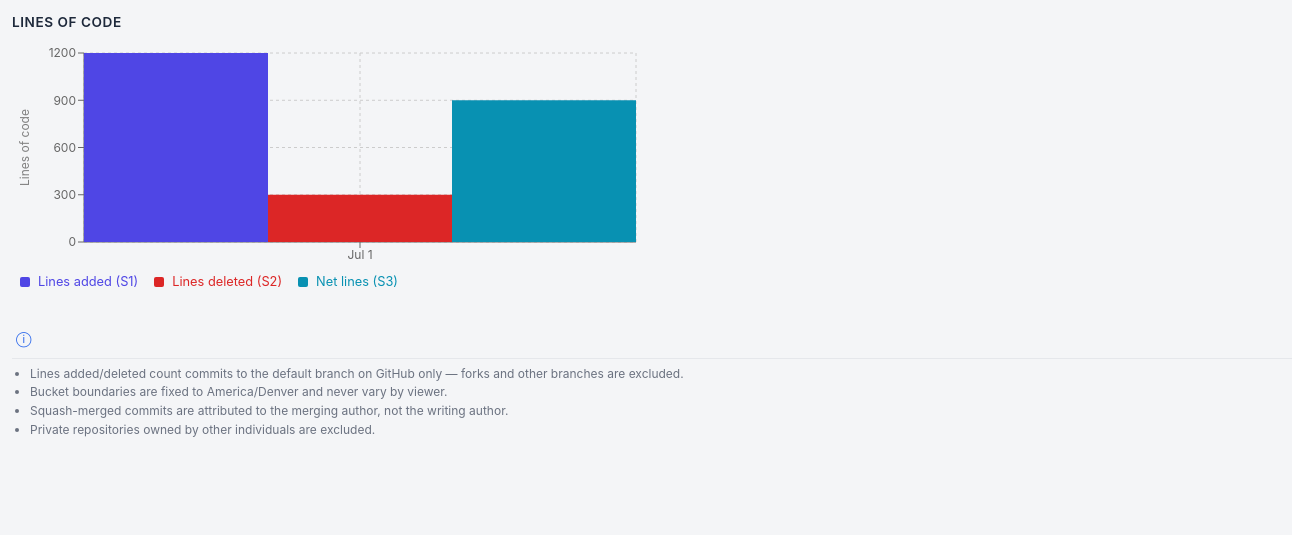
Test case: ProductivitySeriesChart disclosures (R24) › keeps per-load conditions out of the plot area until the info affordance is opened, then reveals every one
Check: the text "Rate-limited — served from a 15-minute cache for this window." is not shown
Check: the text "42 commits could not be attributed to an owner and are excluded." is not shown
Step 1. Click the button with test id "productivity-info-affordance" → (24, 338), box [12, 329, 36, 347]
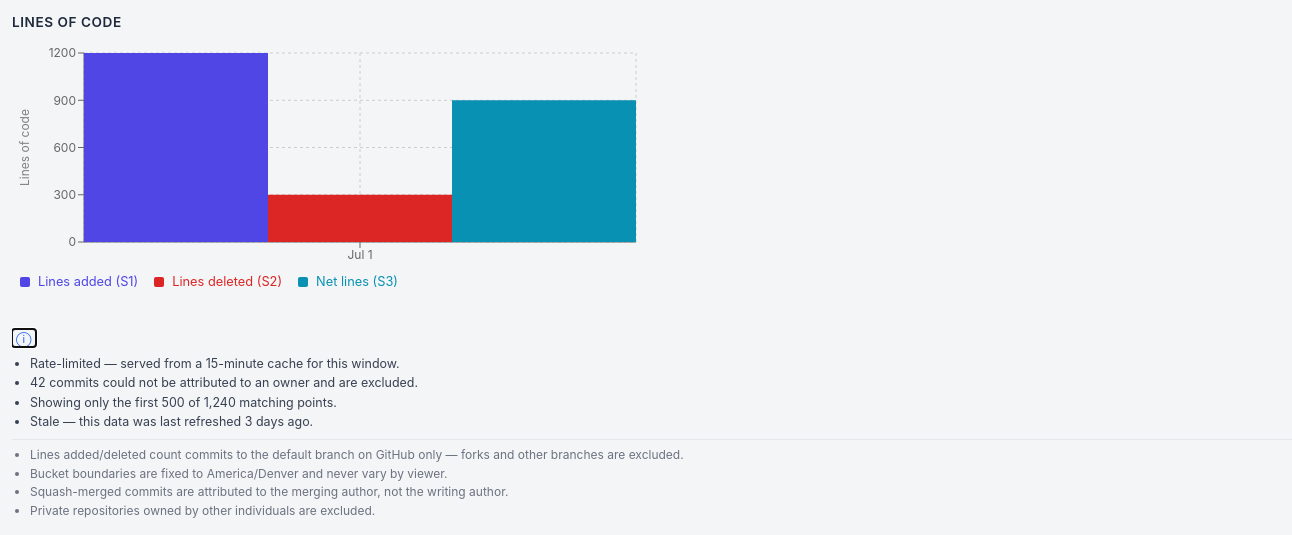
Check: the list item "Rate-limited — served from a 15-minute cache for this window." is shown, box [30, 356, 400, 371]
Check: the list item "42 commits could not be attributed to an owner and are excluded." is shown, box [30, 375, 418, 390]
Check: the list item "Showing only the first 500 of 1,240 matching points." is shown, box [30, 394, 337, 410]
